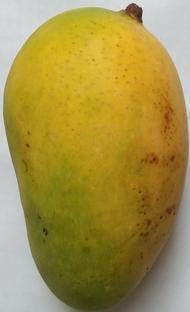PartiallyRipe: (1, 1, 190, 312)
